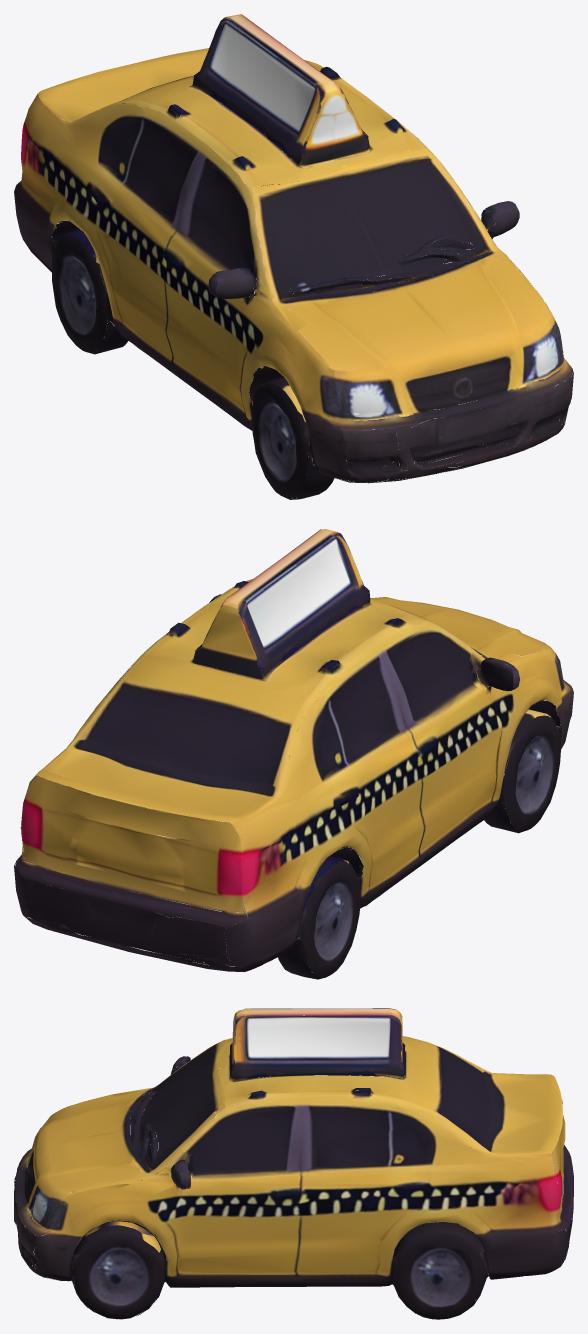
The model's file is h3-taxi.glb.
The picture shows the model from 3 angles, top to bottom: view 1: azimuth 30°, elevation 25°; view 2: azimuth 150°, elevation 25°; view 3: azimuth 270°, elevation 25°; orthographic projection. The views are drawn at different scales.
Parts seen in each view (by area): view 1: tmpekuhrlp8.ply; view 2: tmpekuhrlp8.ply; view 3: tmpekuhrlp8.ply.
Part boxes in pixels (x1,y1,x2,y2): tmpekuhrlp8.ply: (14,14,573,499); tmpekuhrlp8.ply: (14,529,573,979); tmpekuhrlp8.ply: (14,1008,573,1319).
Size of the model in its own units: 1.01 by 1.03 by 2.
1 material, 1 textured.
